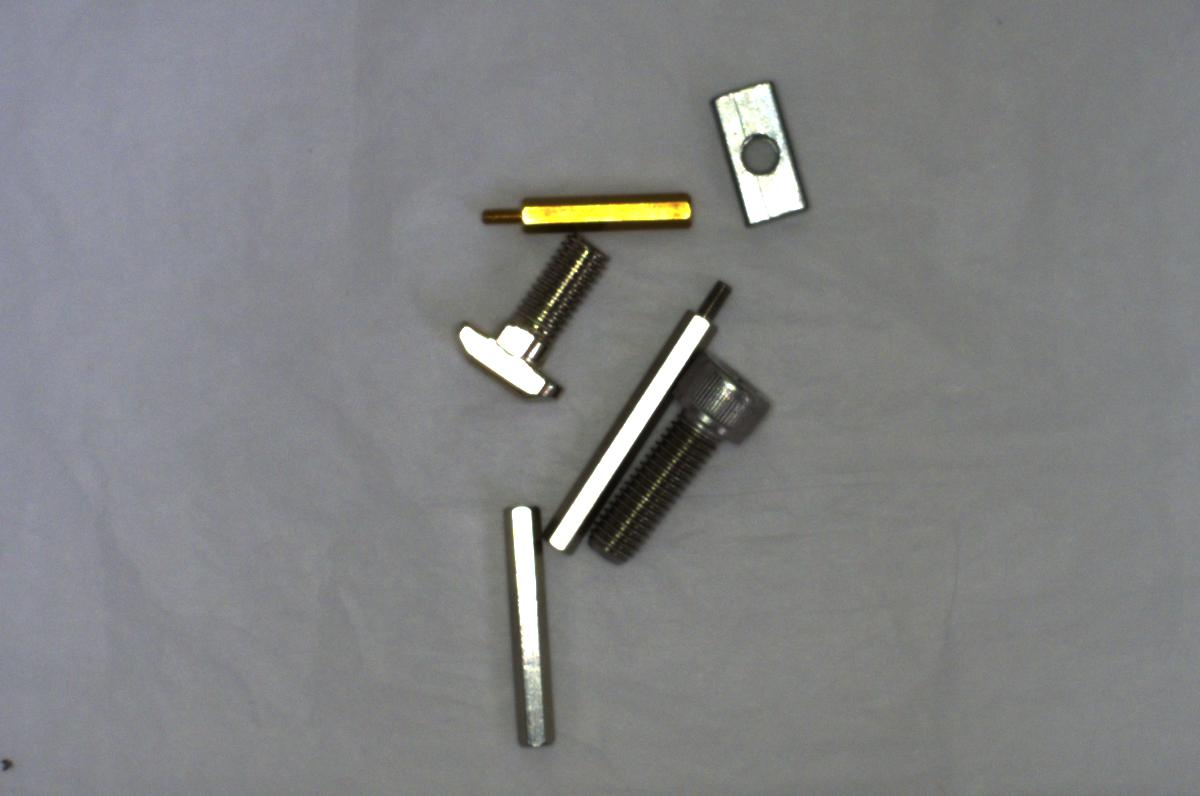Double hexagonal column: (488, 489, 566, 759)
Hexagon pillar: (464, 175, 702, 234)
Hexagon screw: (577, 361, 777, 573)
Hexagonal steel column: (542, 272, 737, 561)
Rectangular nut: (717, 67, 811, 228)
T-shaped screw: (446, 227, 611, 403)
